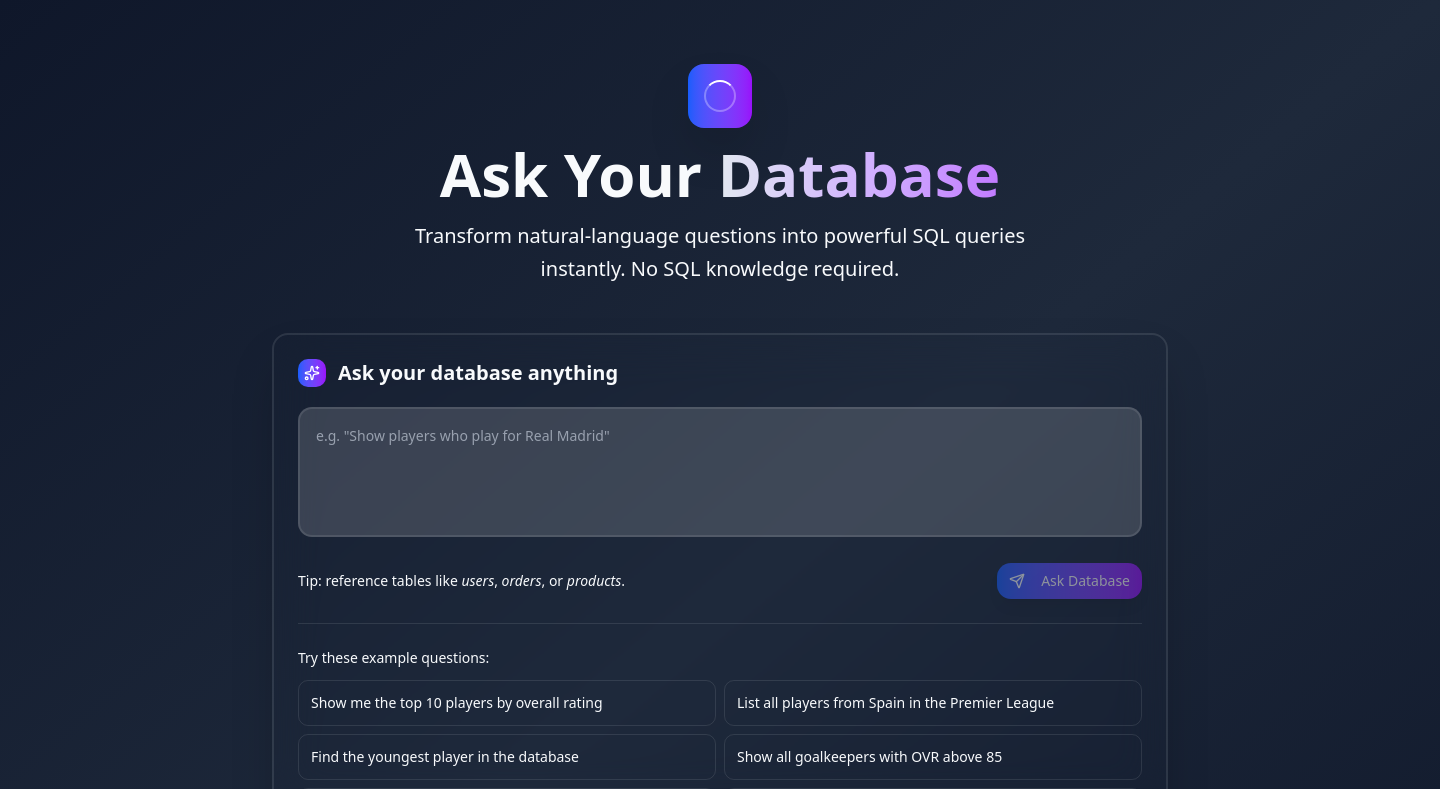
QueryInterface Page › Query Results Display › displays execution time
Type "Show players" into the text box at (720,472), box [298,407,1142,537]
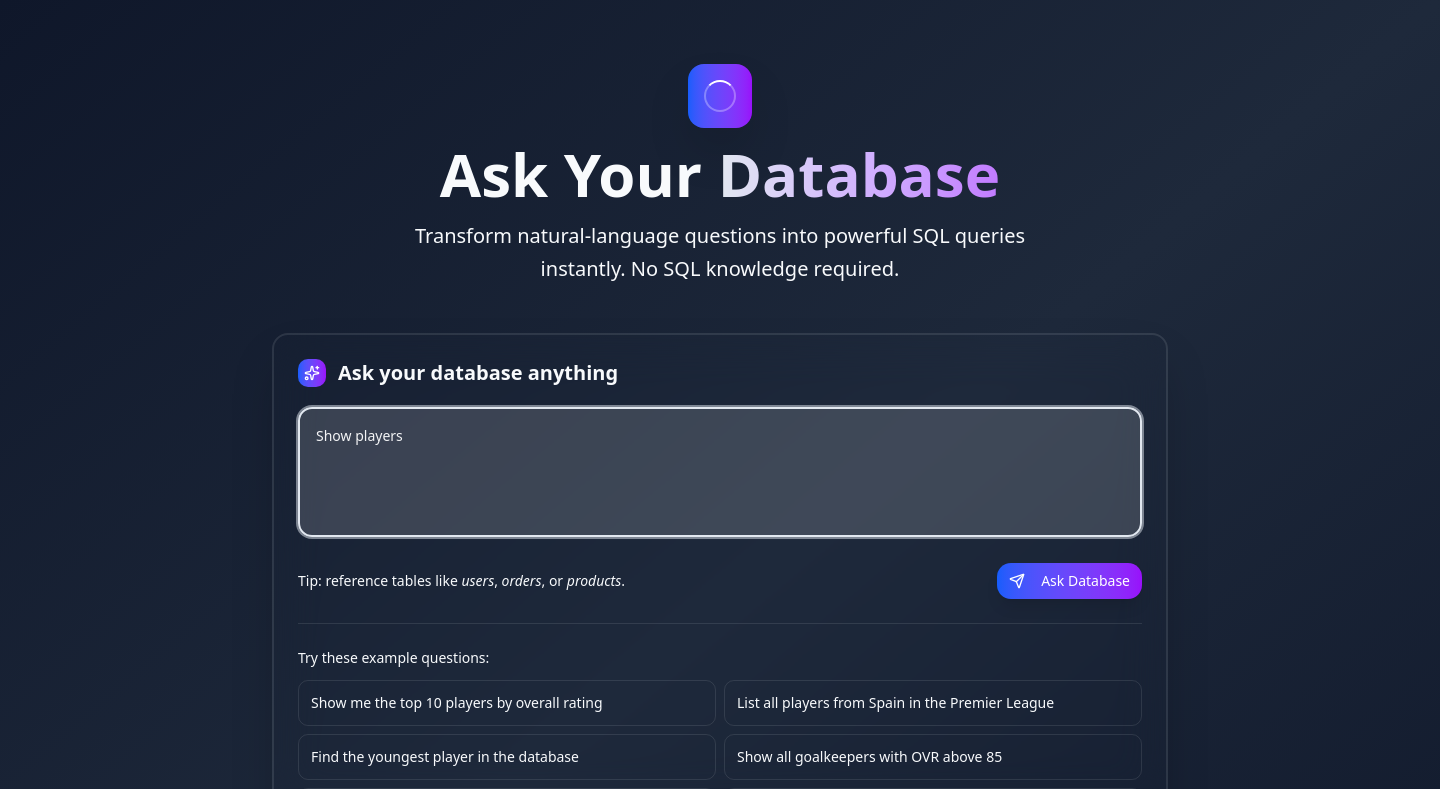
Click the submit button at (1070,581), box [997,563,1142,599]
(page scrolled)
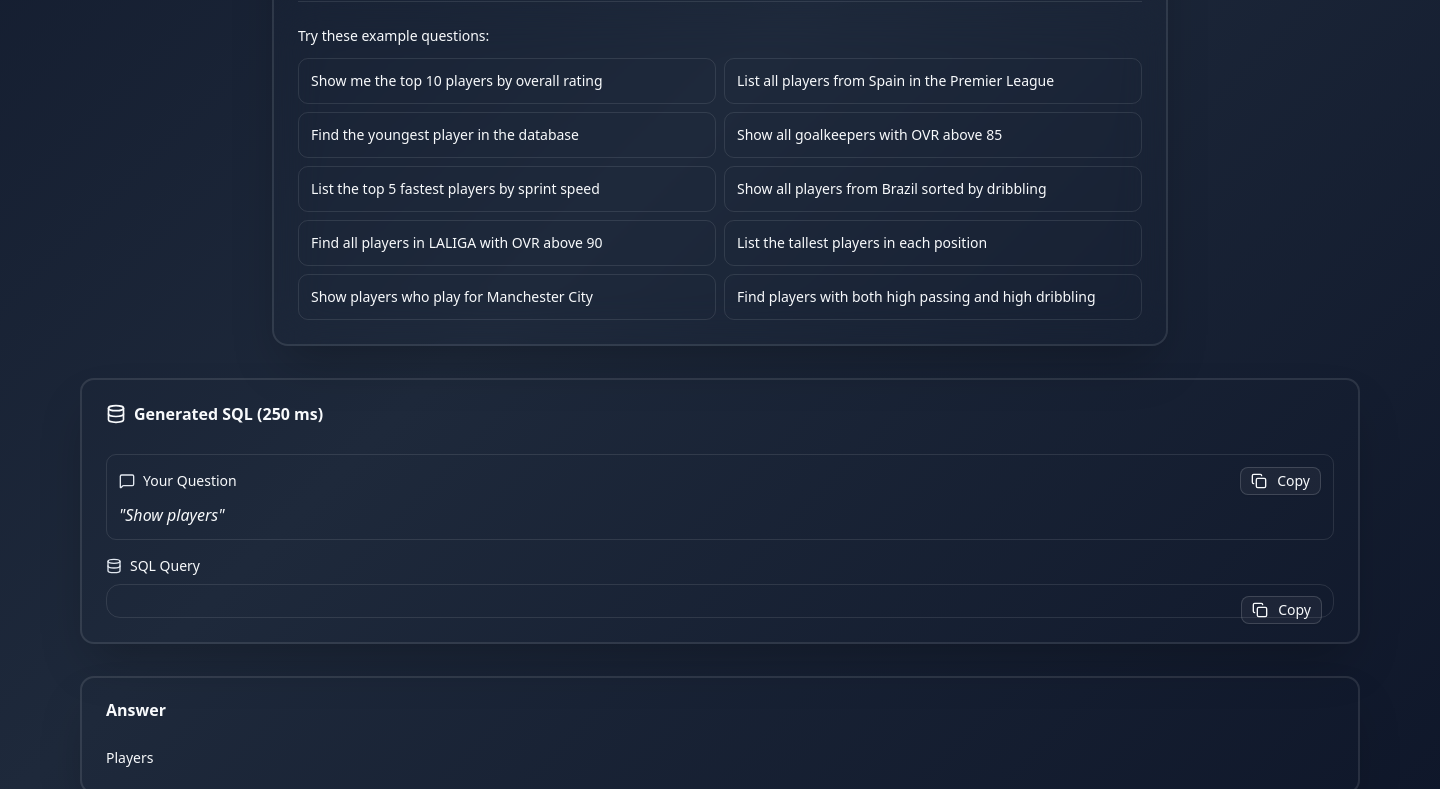
Expected: the text "Generated SQL (250 ms)" is shown, [106,403,323,425]
